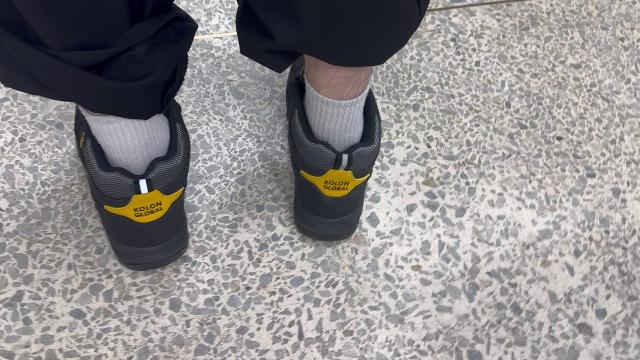shoe_worn: (70, 97, 199, 274), (282, 60, 388, 243)
